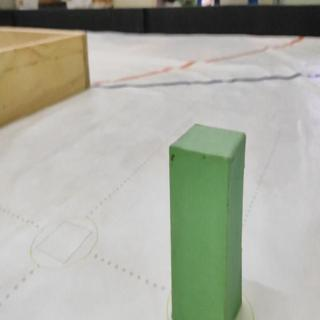greenbox: (167, 121, 248, 320)
